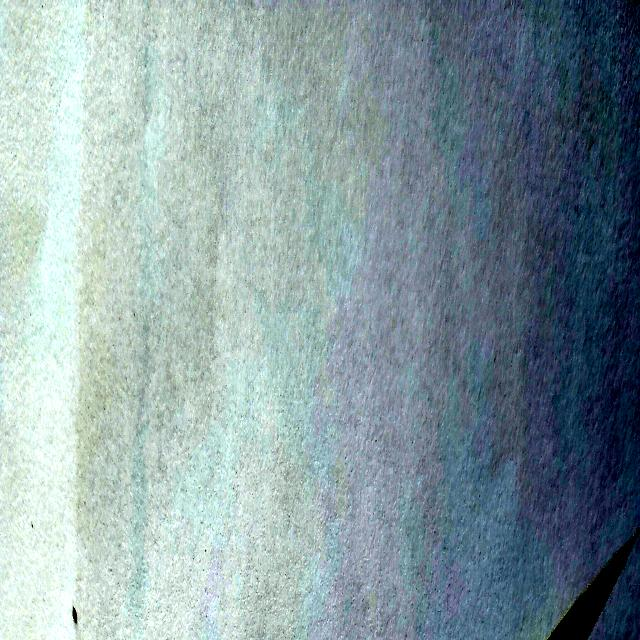NBS: (576, 585, 594, 611), (582, 632, 587, 640), (623, 549, 627, 554)
